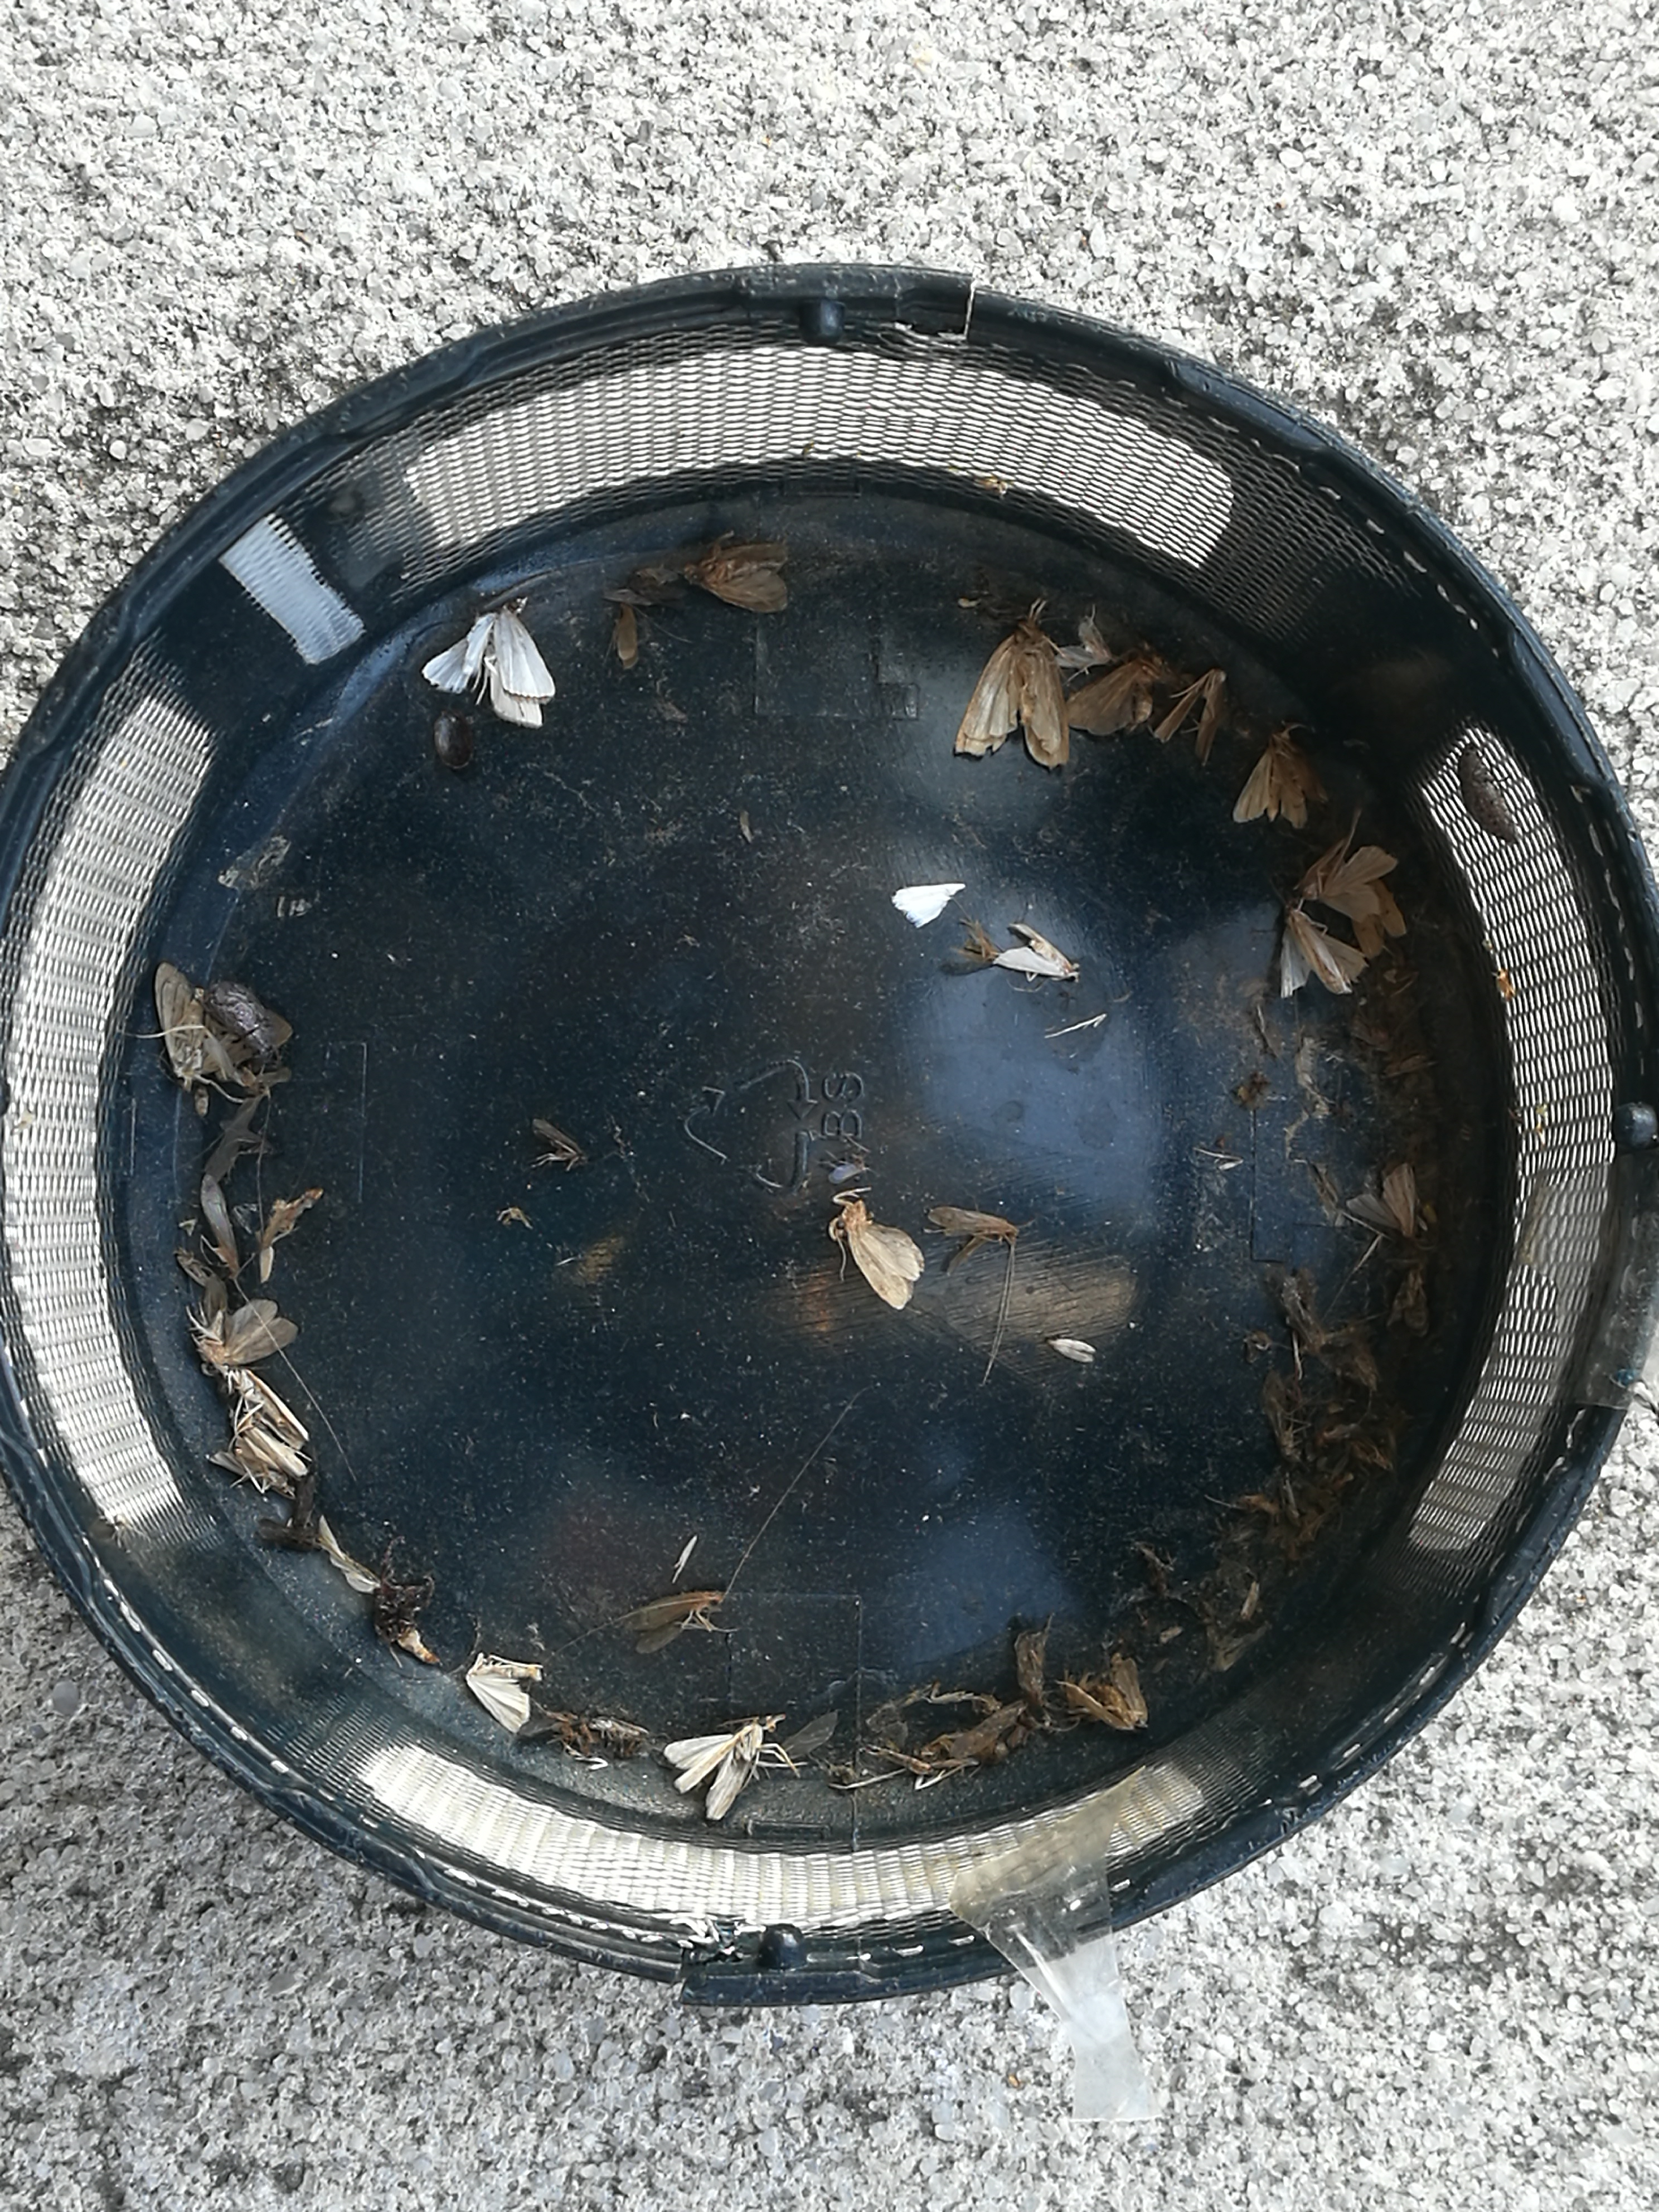beetle: (1459, 742, 1521, 841)
mosquito: (230, 1367, 308, 1449), (209, 1439, 293, 1498), (202, 1177, 240, 1278), (633, 1592, 723, 1629), (927, 1207, 1018, 1238), (1265, 1371, 1295, 1463), (1014, 1632, 1044, 1712), (619, 603, 640, 671)
moth: (155, 963, 293, 1092), (955, 620, 1070, 765), (422, 610, 556, 726), (664, 1714, 784, 1817), (829, 1204, 924, 1310), (1070, 646, 1155, 735), (683, 543, 788, 615), (1279, 913, 1366, 998), (1234, 733, 1307, 829), (1155, 667, 1225, 761), (200, 1299, 298, 1364), (465, 1653, 542, 1731), (995, 925, 1079, 979)
